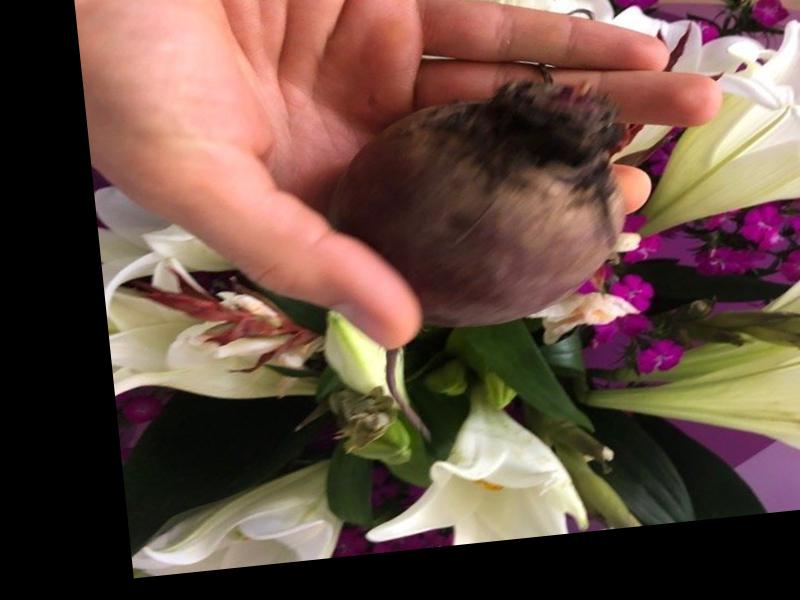Beet: (322, 80, 651, 448)
